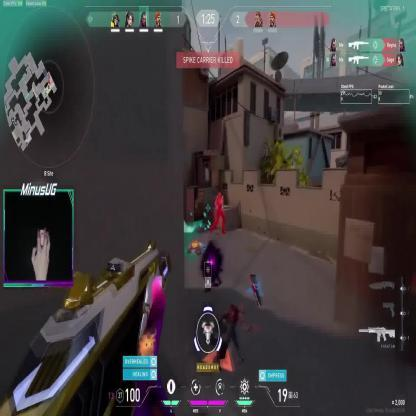enemy: (210, 190, 226, 234)
enemy_head: (218, 191, 222, 198)
